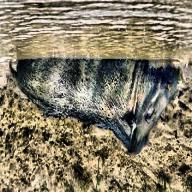boar: (25, 48, 192, 173)
